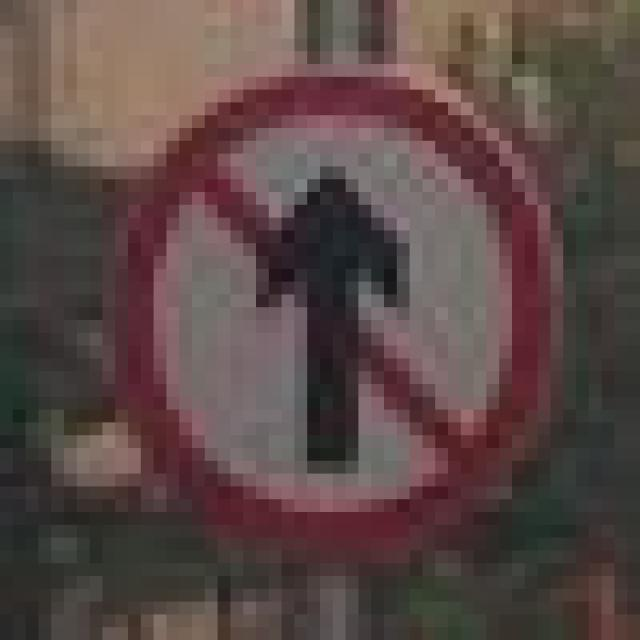straight prohibited: (114, 66, 565, 566)
